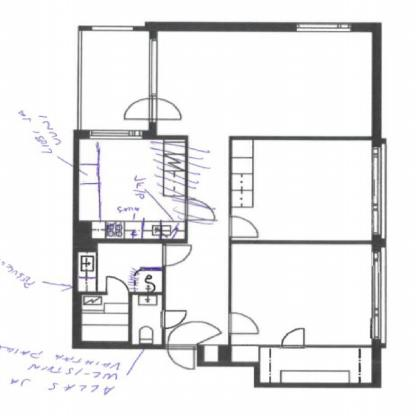door: (158, 30, 380, 347), (233, 242, 373, 345), (232, 140, 373, 239), (78, 139, 182, 240), (78, 242, 164, 343), (80, 29, 152, 131), (233, 346, 373, 382), (132, 295, 162, 343)
window: (166, 321, 219, 371), (124, 99, 183, 121), (228, 314, 259, 340), (279, 325, 307, 349), (230, 217, 259, 240), (163, 244, 192, 266), (162, 309, 190, 328)
zone: (372, 247, 389, 344), (370, 144, 387, 237), (87, 130, 142, 138), (297, 25, 350, 32)
